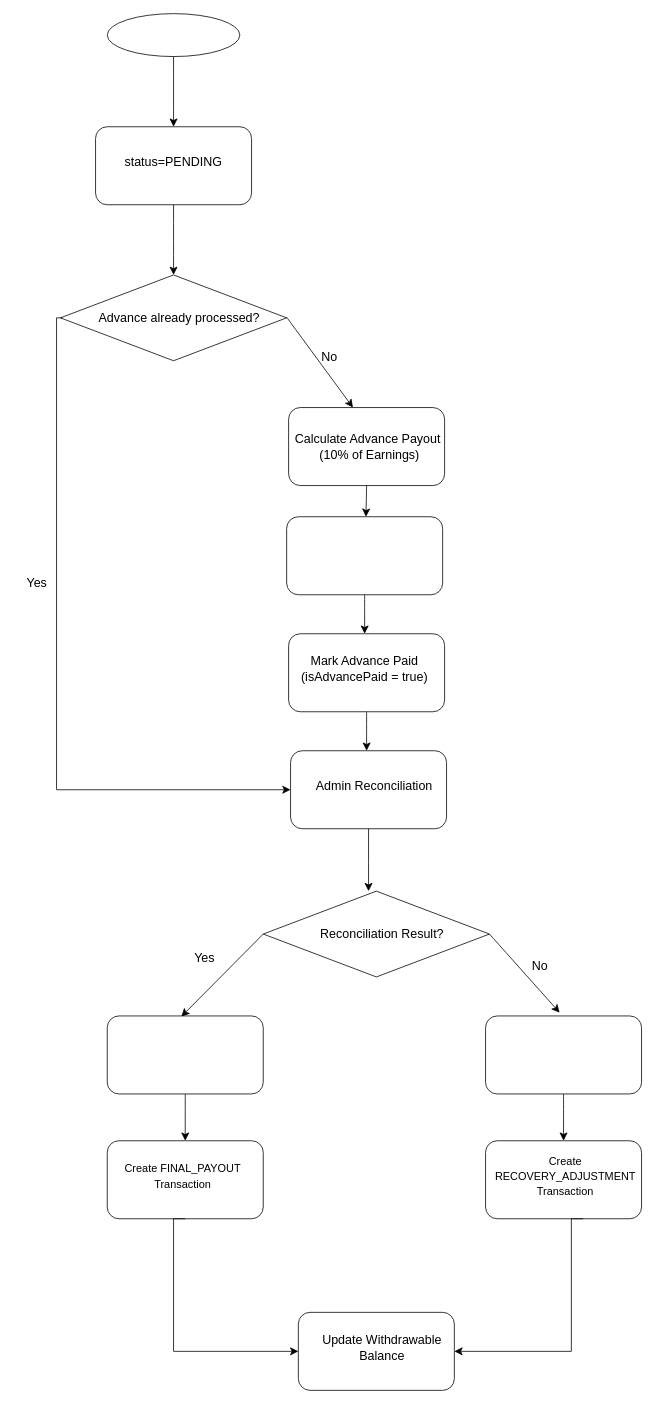
The diagram is 655 pixels wide and 1404 high, and some of its shapes have lost their labels. Here are the shapes that lost their labels. From the top down, the box of each, then its label:
(106, 13, 240, 57): Sale Created
(286, 516, 443, 595): Create Financial Transaction (Type = ADVANCE_PAYOUT)
(106, 1015, 263, 1094): status = APPROVED
(485, 1015, 642, 1094): status = REJECTED
